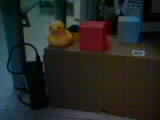duck: (40, 9, 77, 54)
